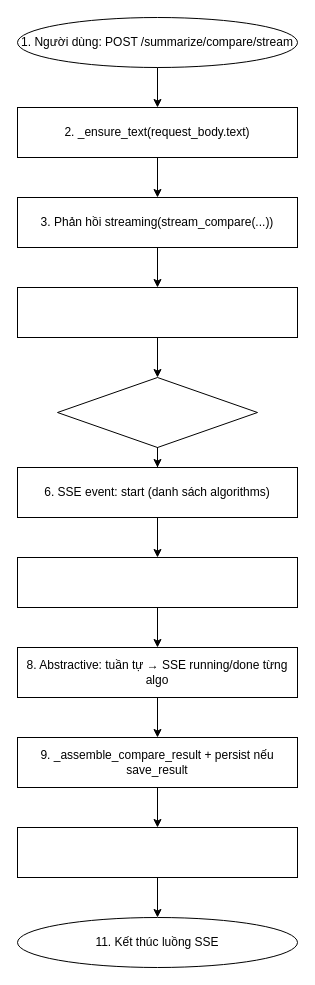
This 315x985 diagram has some shape labels left out. Each missing label, with the box of its shape:
10. SSE event: finished (payload đầy đủ): (16, 826, 298, 878)
4. stream_compare: _prepare_compare() chuẩn hóa thuật toán: (16, 286, 298, 338)
5. Lỗi ValueError?: (56, 376, 258, 448)
7. Extractive: ThreadPoolExecutor (luồng song song) → SSE running/done từng algo: (16, 556, 298, 608)
